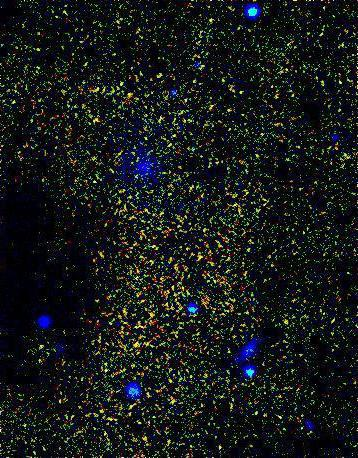star: (271, 307, 301, 337)
